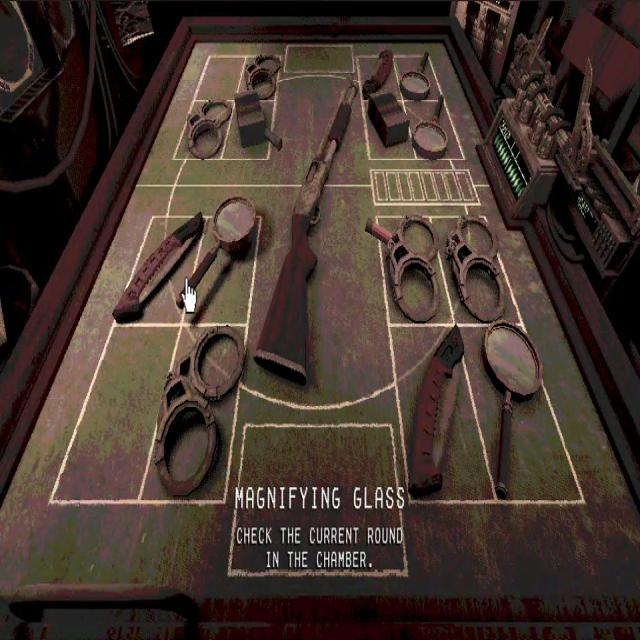ally: (1, 176, 639, 598)
cigar: (368, 93, 409, 146), (235, 92, 269, 146)
doubledamage: (113, 212, 201, 321), (408, 323, 463, 497), (361, 51, 393, 99)
emptyspace: (51, 325, 178, 504), (191, 53, 243, 102)
enemyspace: (151, 35, 493, 165)
gun: (253, 76, 358, 381)
handcuff: (154, 326, 244, 496), (447, 214, 504, 322), (384, 214, 440, 321), (188, 100, 233, 158), (244, 49, 281, 99)
lens: (481, 321, 542, 498), (181, 196, 256, 312), (411, 95, 449, 158), (399, 52, 430, 99)
